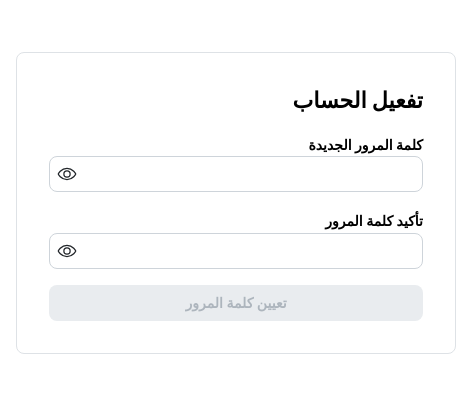
Scenario: حساب المستخدم من الموظف › صفحة الدعوة: تباين الكلمتين يُرفض قبل الإرسال
Type "Aa-1234567890" into the password field labelled "كلمة المرور الجديدة".
click(236, 174); type("Aa-1234567890")  # box [50,157,422,191]
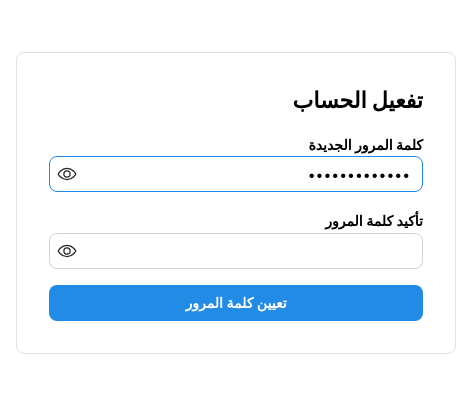
Type "different" into the password field labelled "تأكيد كلمة المرور".
click(236, 251); type("different")  # box [50,234,422,268]
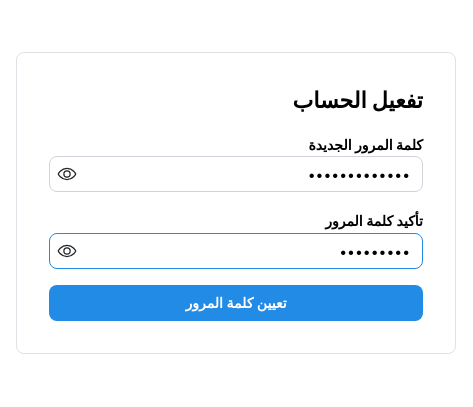
Click the button "تعيين كلمة المرور".
click(236, 303)  # box [49,285,423,321]
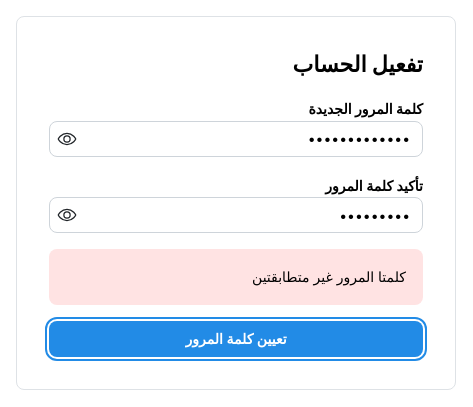
Now the text "كلمتا المرور غير متطابقتين" is shown, box [252,268,406,285]
